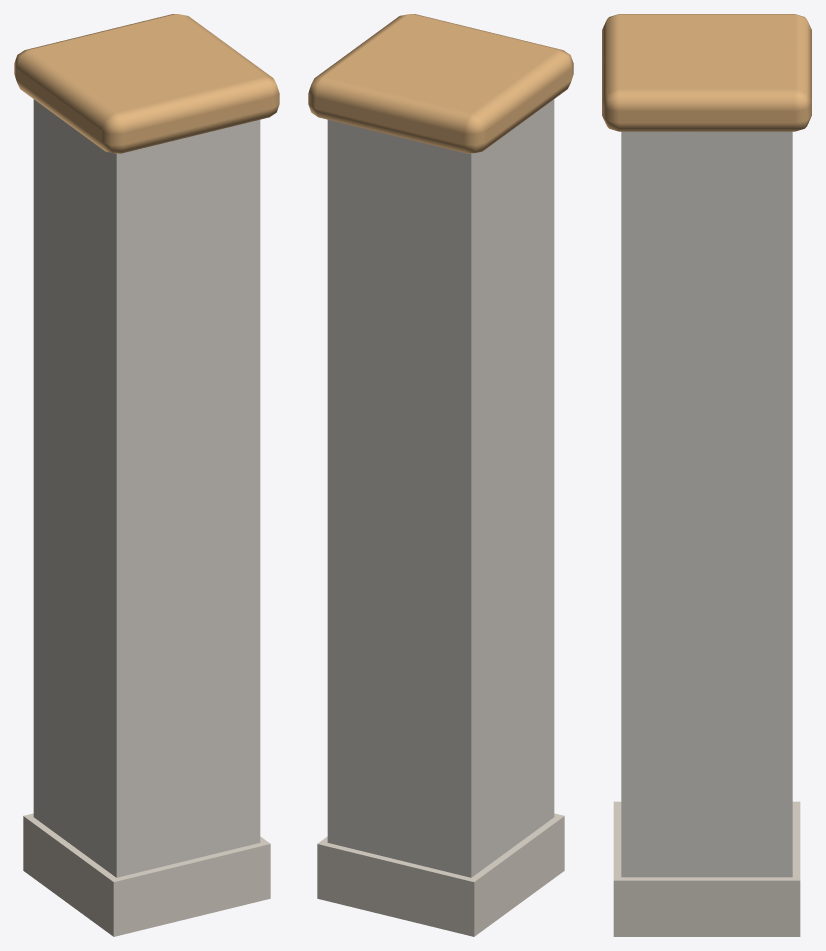
The model's file is pfosten_halb.glb.
The picture shows the model from 3 angles, left to right: view 1: azimuth 30°, elevation 25°; view 2: azimuth 150°, elevation 25°; view 3: azimuth 270°, elevation 25°; orthographic projection. The views are drawn at different scales.
Visible parts, largest first — view 1: pfosten_halb; view 2: pfosten_halb; view 3: pfosten_halb.
Boxes of the visible parts, x1,y1,x2,y2 form: pfosten_halb: (14, 14, 279, 936); pfosten_halb: (308, 14, 573, 936); pfosten_halb: (602, 14, 811, 936).
Bounding box in the file's own units: 0.27 × 1.2 × 0.27.
